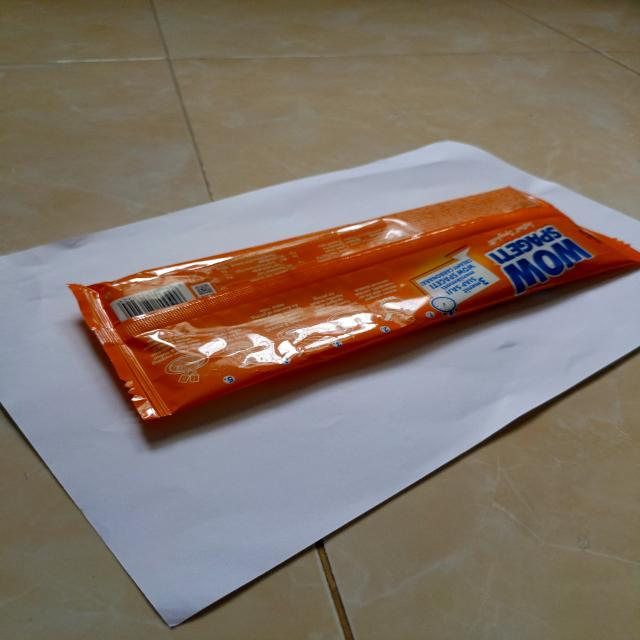indomie-tori-miso: (53, 184, 640, 423)
